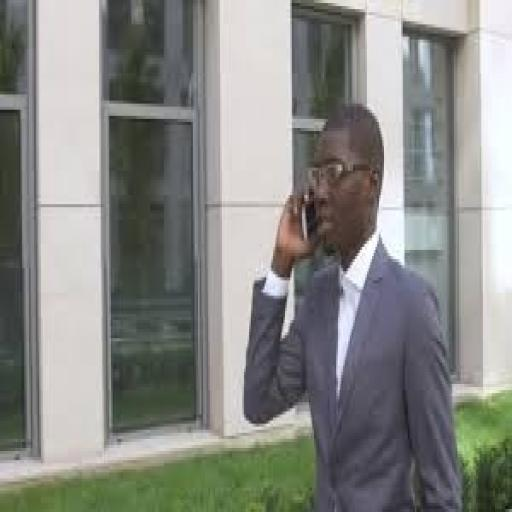calling: (241, 97, 464, 509)
